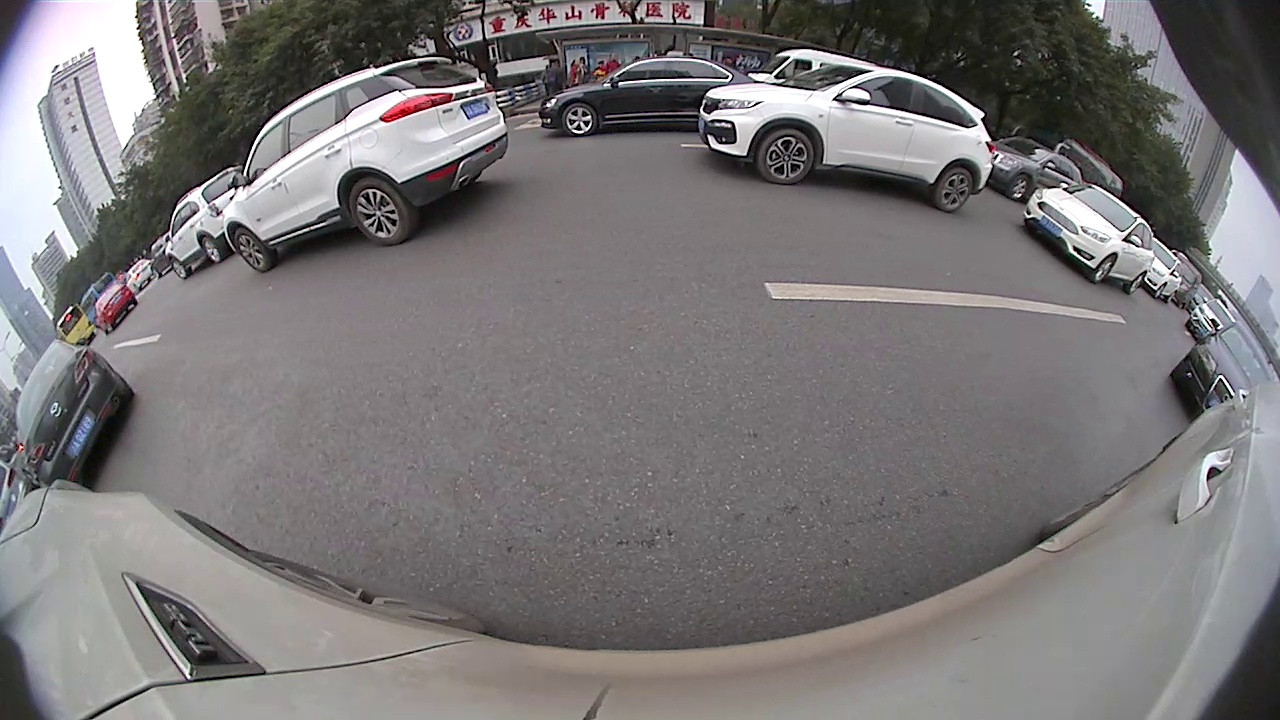car: (220, 56, 507, 274), (698, 61, 997, 213), (541, 55, 763, 136), (14, 339, 134, 487), (1021, 184, 1156, 295), (1171, 321, 1270, 412), (166, 167, 245, 280), (981, 134, 1081, 203), (1141, 237, 1184, 304), (93, 280, 140, 333)
front: (760, 129, 815, 183), (232, 225, 271, 273), (560, 103, 598, 136), (1090, 254, 1118, 283), (1007, 176, 1031, 201), (168, 258, 190, 280), (1153, 285, 1164, 300)
rear: (348, 178, 412, 244), (933, 166, 973, 211), (199, 235, 222, 264), (1126, 272, 1145, 294), (1167, 293, 1176, 304)
